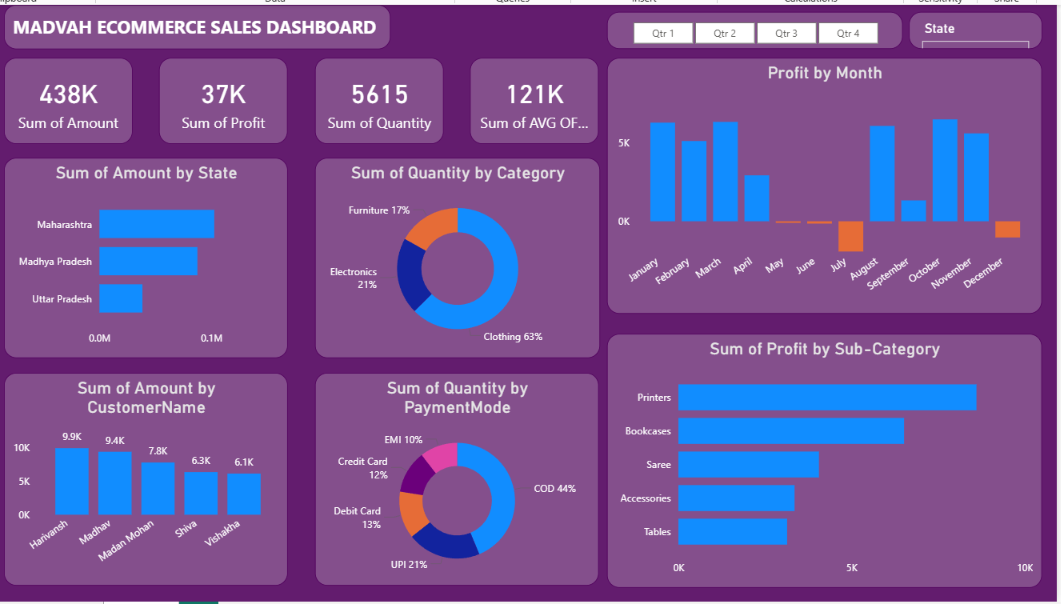

This screenshot's page, from the dashboard's own definition file:
{"tool":"powerbi","page":{"name":"Page 1","canvas":[1280,720],"ordinal":0},"visuals":[{"type":"textbox","box":[9.6,0,466.6,53.5],"z":0},{"type":"columnChart","title":"Profit by Month","fields":{"Category":["Orders.Order Date.Variation.Date Hierarchy.Month"],"Y":["Sum(Details.Profit)"]},"box":[737.1,63.9,524.8,308.8],"z":2},{"type":"barChart","fields":{"Category":["Details.Sub-Category"],"Y":["Sum(Details.Profit)"]},"box":[737.1,396.9,524.8,306.4],"z":3},{"type":"donutChart","fields":{"Category":["Details.Category"],"Y":["Sum(Details.Quantity)"]},"box":[384.9,184.6,343.8,241.3],"z":4},{"type":"donutChart","fields":{"Y":["Sum(Details.Quantity)"],"Category":["Details.PaymentMode"]},"box":[384.9,444,342.6,257],"z":5},{"type":"card","fields":{"Values":["Sum(Details.Amount)"]},"box":[9.6,64.5,155.1,104.3],"z":6},{"type":"card","fields":{"Values":["Sum(Details.Profit)"]},"box":[197.1,64.5,155.1,104.3],"z":7},{"type":"card","fields":{"Values":["Sum(Details.Quantity)"]},"box":[384.7,64.5,155.1,104.3],"z":8},{"type":"card","fields":{"Values":["Sum(Details.AVG OF SALES)"]},"box":[572.2,64.5,155.1,104.3],"z":9},{"type":"barChart","fields":{"Y":["Sum(Details.Amount)"],"Category":["Orders.State"]},"box":[9.7,184.6,342.6,241.3],"z":10},{"type":"columnChart","fields":{"Category":["Orders.CustomerName"],"Y":["Sum(Details.Amount)"]},"box":[9.7,444,342.6,257],"z":11},{"type":"slicer","fields":{"Values":["Orders.Order Date.Variation.Date Hierarchy.Quarter"]},"box":[737.1,8.4,357.1,44.6],"z":12},{"type":"slicer","fields":{"Values":["Orders.State"]},"box":[1101.5,8.4,160.5,44.6],"z":13}]}

Visuals, with their boxes in screenshot pixels (x1, y1, x2, y2):
textbox: rect(0, 3, 390, 48)
"Profit by Month" columnChart: rect(611, 57, 1056, 319)
barChart - Details.Sub-Category x Sum(Details.Profit): rect(611, 339, 1056, 599)
donutChart - Details.Category x Sum(Details.Quantity): rect(312, 159, 604, 364)
donutChart - Sum(Details.Quantity) x Details.PaymentMode: rect(312, 379, 603, 597)
card - Sum(Details.Amount): rect(0, 57, 126, 146)
card - Sum(Details.Profit): rect(153, 57, 285, 146)
card - Sum(Details.Quantity): rect(312, 57, 444, 146)
card - Sum(Details.AVG OF SALES): rect(471, 57, 603, 146)
barChart - Sum(Details.Amount) x Orders.State: rect(0, 159, 285, 364)
columnChart - Orders.CustomerName x Sum(Details.Amount): rect(0, 379, 285, 597)
slicer - Orders.Order Date.Variation.Date Hierarchy.Quarter: rect(611, 10, 914, 48)
slicer - Orders.State: rect(920, 10, 1056, 48)
